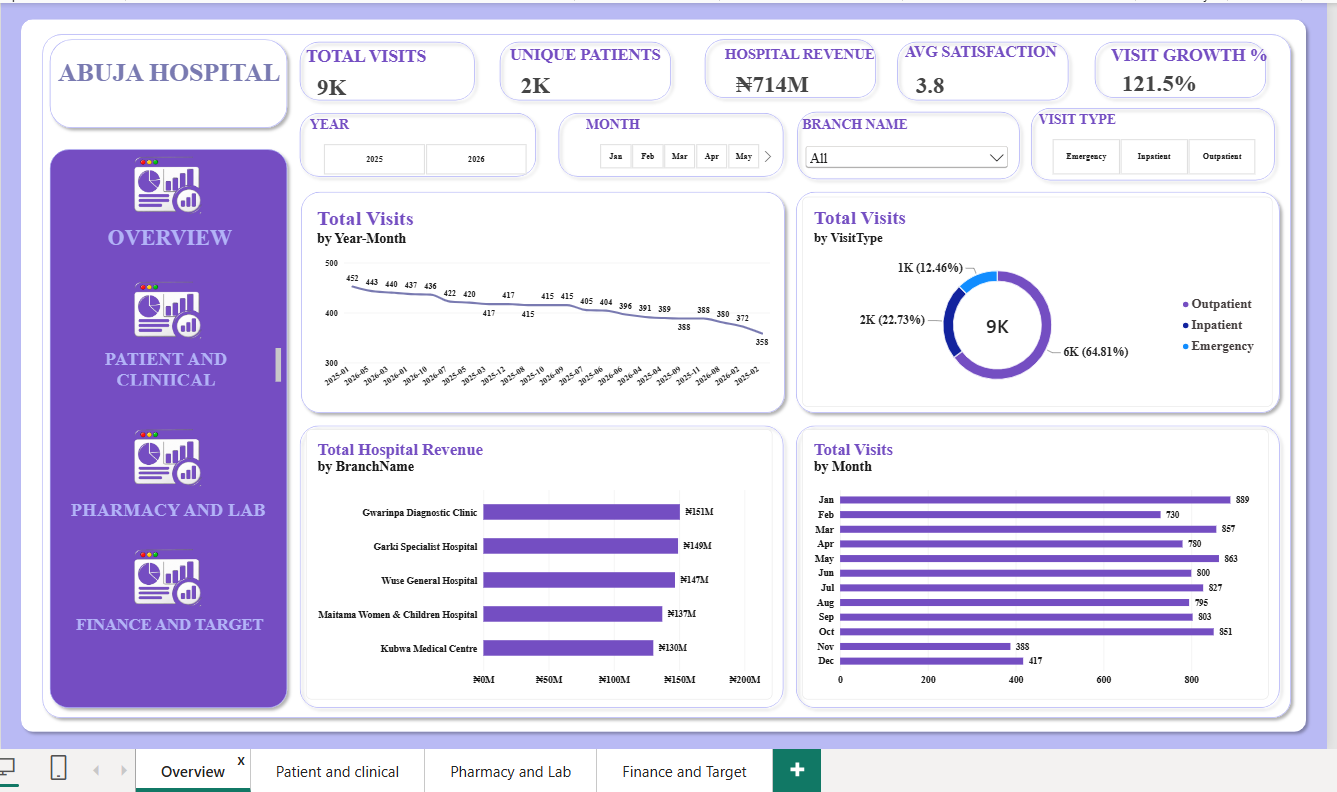

This screenshot's page, from the dashboard's own definition file:
{"tool":"powerbi","page":{"name":"Overview","canvas":[1920,1080],"ordinal":0},"visuals":[{"type":"shape","box":[19.9,14.5,1878.4,1049.6],"z":0},{"type":"shape","box":[50.7,36.2,1825.9,1008],"z":1000},{"type":"shape","box":[61.5,202.7,361.9,827],"z":2000},{"type":"image","box":[152,222.6,179.2,83.2],"z":3000},{"type":"textbox","box":[130.3,320.3,228,43.4],"z":4000},{"type":"textbox","box":[81.4,499.5,323.9,54.3],"z":5000},{"type":"image","box":[152,403.6,179.2,83.2],"z":6000},{"type":"textbox","box":[92.3,718.4,300.4,72.4],"z":7000},{"type":"image","box":[152,617.1,179.2,83.2],"z":8000},{"type":"image","box":[152,790.8,179.2,83.2],"z":9000},{"type":"textbox","box":[94.1,886.7,300.4,50.7],"z":10000},{"type":"shape","box":[61.5,43.4,361.9,146.6],"z":11000},{"type":"textbox","box":[81.4,77.8,323.9,79.6],"z":12000},{"type":"shape","box":[423.5,602.6,718.4,427.1],"z":13000},{"type":"shape","box":[1141.9,602.6,718.4,427.1],"z":14000},{"type":"shape","box":[1141.9,264.2,718.4,338.4],"z":15000},{"type":"shape","box":[425.3,264.2,718.4,338.4],"z":16000},{"type":"lineChart","fields":{"Category":["Dim_Date.Year-Month"],"Y":["Visit_Dax.Total Visits"]},"box":[441.6,280.5,687.7,304],"z":17000},{"type":"donutChart","fields":{"Category":["Fact_Visits.VisitType"],"Y":["Visit_Dax.Total Visits"]},"box":[1160,280.5,680.4,304],"z":18000},{"type":"clusteredBarChart","fields":{"Category":["Dim_Branch.BranchName"],"Y":["Lab and Pharmacy Dax.Total Hospital Revenue"]},"box":[441.6,617.1,675,390.9],"z":19000},{"type":"clusteredBarChart","fields":{"Category":["Dim_Date.Month"],"Y":["Visit_Dax.Total Visits"]},"box":[1160,617.1,675,390.9],"z":20000},{"type":"shape","box":[423.5,47.1,271.4,103.2],"z":21000},{"type":"cardVisual","title":"TOTAL VISITS","fields":{"Data":["Visit_Dax.Total Visits"]},"box":[441.6,63.3,226.2,72.4],"z":22000},{"type":"shape","box":[713,47.1,266,103.2],"z":23000},{"type":"shape","box":[1009.8,43.4,266,103.2],"z":24000},{"type":"shape","box":[1288.5,47.1,266,103.2],"z":25000},{"type":"shape","box":[1574.4,47.1,266,99.5],"z":26000},{"type":"cardVisual","title":"UNIQUE PATIENTS","fields":{"Data":["Visit_Dax.Unique Patients"]},"box":[736.5,61.5,228,74.2],"z":27000},{"type":"cardVisual","title":"HOSPITAL REVENUE","fields":{"Data":["Lab and Pharmacy Dax.Total Hospital Revenue"]},"box":[1047.8,61.5,228,72.4],"z":28000},{"type":"cardVisual","title":"AVG SATISFACTION","fields":{"Data":["Visit_Dax.Avg Satisfaction"]},"box":[1308.4,57.9,228,81.4],"z":29000},{"type":"cardVisual","title":"VISIT GROWTH %","fields":{"Data":["Time_Dax.Visits Growth %"]},"box":[1607,61.5,228,67],"z":30000},{"type":"shape","box":[423.5,150.2,360.1,110.4],"z":32000},{"type":"shape","box":[1143.7,148.4,340.2,115.8],"z":35000},{"type":"shape","box":[1482.1,143,371,123.1],"z":36000},{"type":"shape","box":[798.1,150.2,343.8,110.4],"z":37000},{"type":"slicer","title":"VISIT TYPE","fields":{"Values":["Fact_Visits.VisitType"]},"box":[1502,157.4,333,92.3],"z":38000},{"type":"slicer","title":"BRANCH NAME","fields":{"Values":["Dim_Branch.BranchName"]},"box":[1160,164.7,302.2,85.1],"z":38500},{"type":"slicer","title":"MONTH","fields":{"Values":["Dim_Date.Month"]},"box":[846.9,164.7,269.6,76],"z":39000},{"type":"slicer","title":"YEAR","fields":{"Values":["Dim_Date.Year"]},"box":[447,164.7,333,85.1],"z":39500}]}

Visuals, with their boxes on the page's 1920x1080 design canvas (x1, y1, x2, y2). These are canvas units, not pixel positions in the 1337x792 screenshot, which may show the page scaled, cropped or inside an application window:
shape: bbox=(20, 14, 1898, 1064)
shape: bbox=(51, 36, 1877, 1044)
shape: bbox=(62, 203, 423, 1030)
image: bbox=(152, 223, 331, 306)
textbox: bbox=(130, 320, 358, 364)
textbox: bbox=(81, 500, 405, 554)
image: bbox=(152, 404, 331, 487)
textbox: bbox=(92, 718, 393, 791)
image: bbox=(152, 617, 331, 700)
image: bbox=(152, 791, 331, 874)
textbox: bbox=(94, 887, 394, 937)
shape: bbox=(62, 43, 423, 190)
textbox: bbox=(81, 78, 405, 157)
shape: bbox=(424, 603, 1142, 1030)
shape: bbox=(1142, 603, 1860, 1030)
shape: bbox=(1142, 264, 1860, 603)
shape: bbox=(425, 264, 1144, 603)
lineChart - Dim_Date.Year-Month x Visit_Dax.Total Visits: bbox=(442, 280, 1129, 584)
donutChart - Fact_Visits.VisitType x Visit_Dax.Total Visits: bbox=(1160, 280, 1840, 584)
clusteredBarChart - Dim_Branch.BranchName x Lab and Pharmacy Dax.Total Hospital Revenue: bbox=(442, 617, 1117, 1008)
clusteredBarChart - Dim_Date.Month x Visit_Dax.Total Visits: bbox=(1160, 617, 1835, 1008)
shape: bbox=(424, 47, 695, 150)
"TOTAL VISITS" cardVisual: bbox=(442, 63, 668, 136)
shape: bbox=(713, 47, 979, 150)
shape: bbox=(1010, 43, 1276, 147)
shape: bbox=(1288, 47, 1554, 150)
shape: bbox=(1574, 47, 1840, 147)
"UNIQUE PATIENTS" cardVisual: bbox=(736, 62, 964, 136)
"HOSPITAL REVENUE" cardVisual: bbox=(1048, 62, 1276, 134)
"AVG SATISFACTION" cardVisual: bbox=(1308, 58, 1536, 139)
"VISIT GROWTH %" cardVisual: bbox=(1607, 62, 1835, 128)
shape: bbox=(424, 150, 784, 261)
shape: bbox=(1144, 148, 1484, 264)
shape: bbox=(1482, 143, 1853, 266)
shape: bbox=(798, 150, 1142, 261)
"VISIT TYPE" slicer: bbox=(1502, 157, 1835, 250)
"BRANCH NAME" slicer: bbox=(1160, 165, 1462, 250)
"MONTH" slicer: bbox=(847, 165, 1116, 241)
"YEAR" slicer: bbox=(447, 165, 780, 250)
